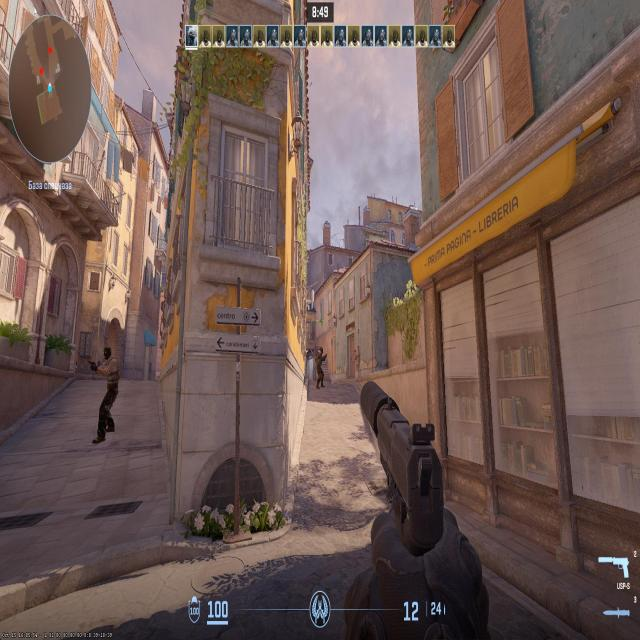CT: (318, 347, 322, 381)
CT_heat: (320, 348, 321, 351)
T: (104, 351, 116, 434)
T_heat: (107, 346, 111, 359)
